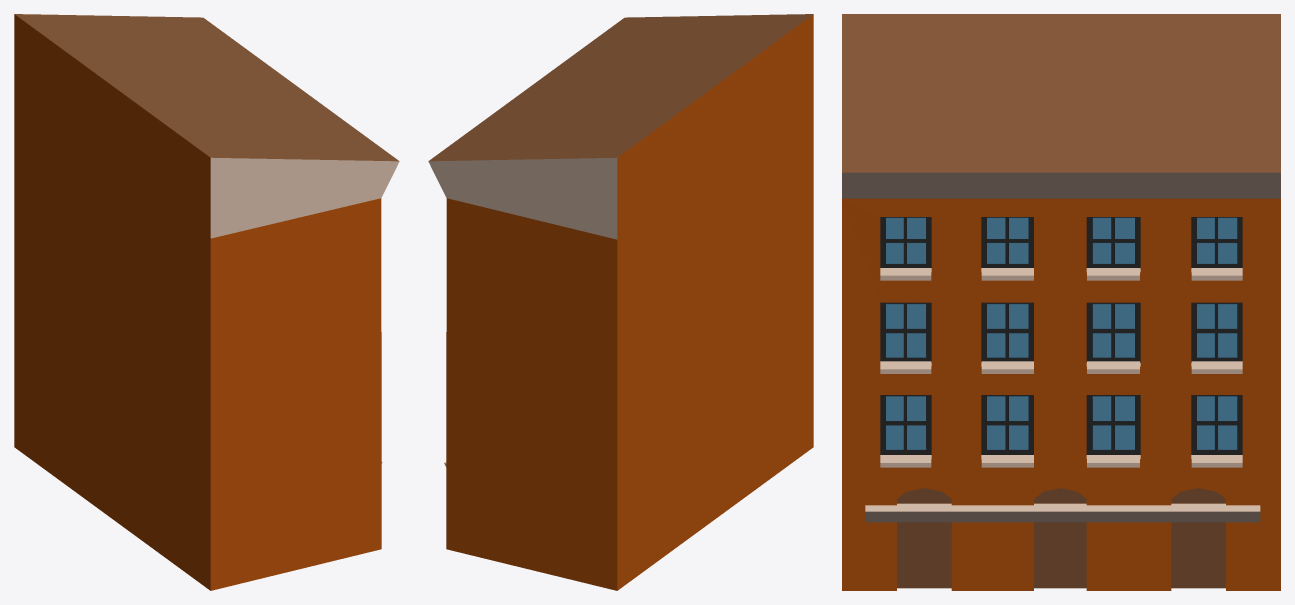
Rendered from BigOrange.obj.
3 renders of one model, left to right at view 1: azimuth 30°, elevation 25°; view 2: azimuth 150°, elevation 25°; view 3: azimuth 270°, elevation 25°, orthographic. The views are drawn at different scales.
Visible parts, largest first — view 1: DuzyZwyklyPomaranczowy1; view 2: DuzyZwyklyPomaranczowy1; view 3: DuzyZwyklyPomaranczowy1.
Part boxes in pixels (x1,y1,x2,y2): DuzyZwyklyPomaranczowy1: [14, 14, 399, 590]; DuzyZwyklyPomaranczowy1: [428, 14, 813, 590]; DuzyZwyklyPomaranczowy1: [842, 14, 1280, 590].
Size of the model in its own units: 6.09 by 13.33 by 10.96.
